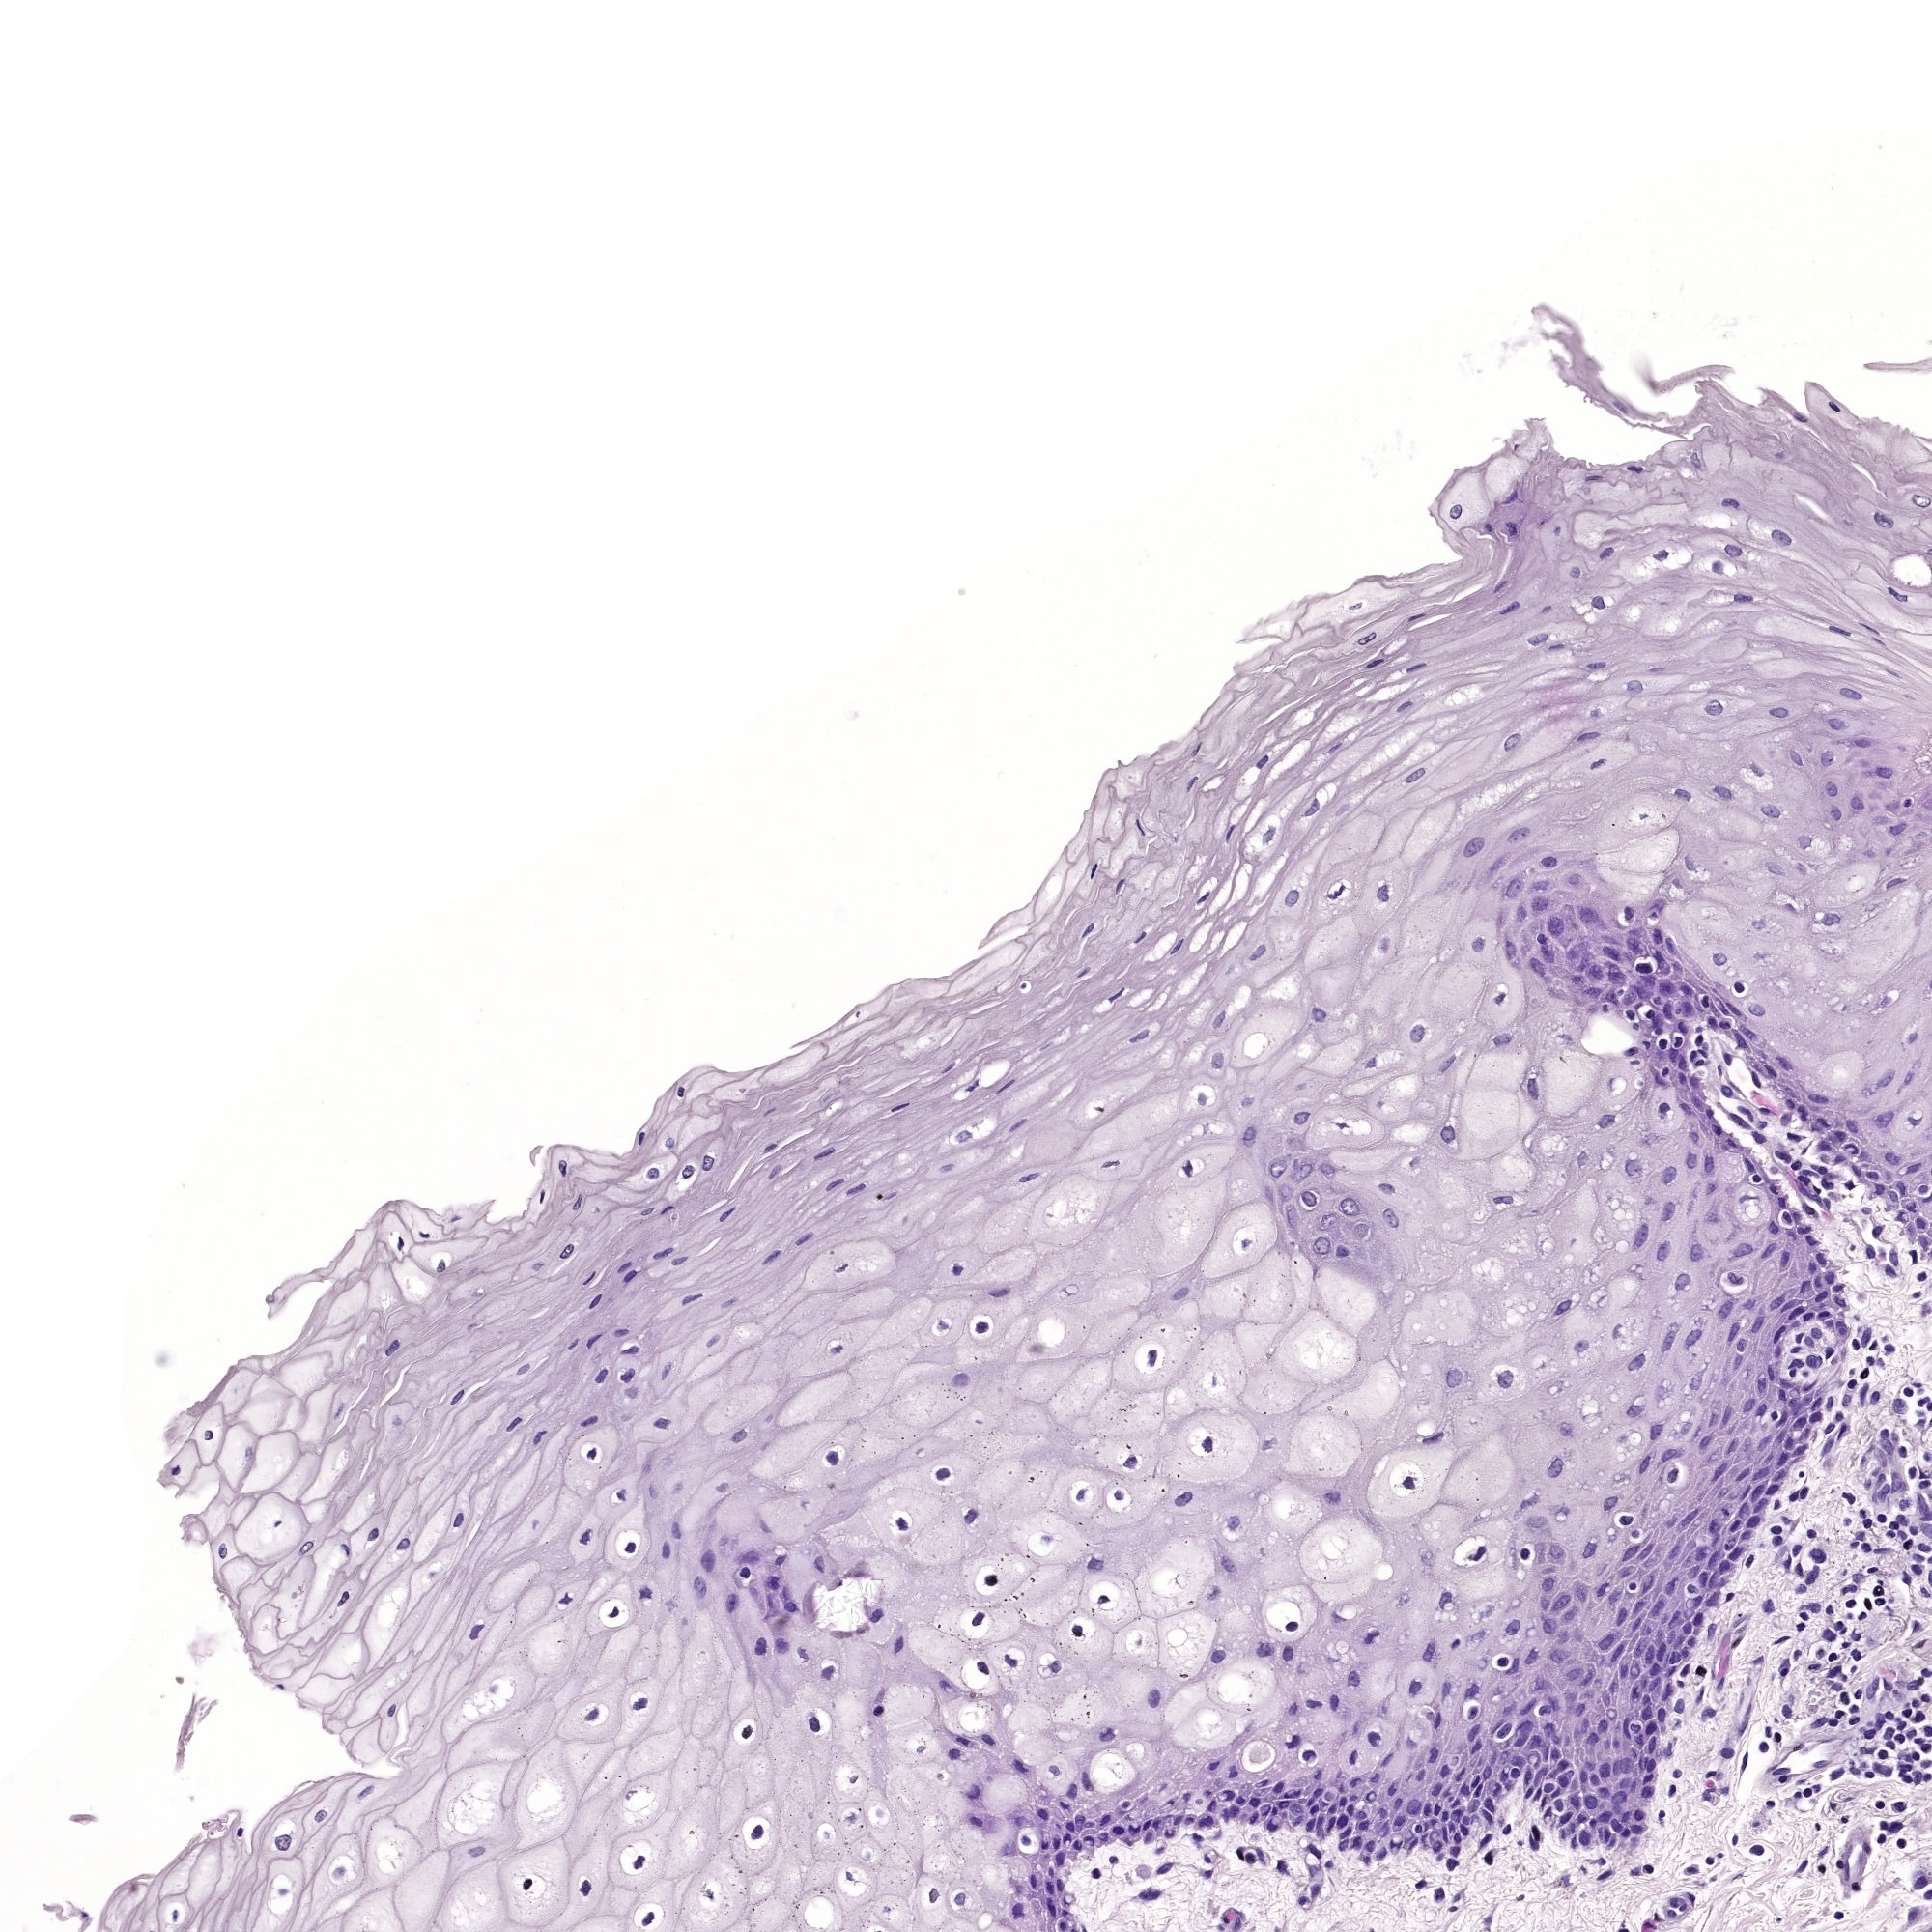epithelial: (1180, 1495, 1191, 1504), (1633, 681, 1640, 690), (1534, 635, 1541, 642), (1645, 1709, 1652, 1716), (1796, 416, 1805, 421), (1332, 743, 1338, 750), (1525, 1727, 1529, 1737), (1527, 1706, 1534, 1711), (699, 1583, 702, 1594), (478, 1845, 483, 1852), (1514, 833, 1523, 837), (955, 1380, 964, 1384), (1511, 529, 1516, 534), (1897, 594, 1902, 600), (1614, 1592, 1619, 1598), (1537, 885, 1545, 888), (1325, 1219, 1332, 1223), (1134, 1035, 1141, 1039), (1548, 1580, 1552, 1587), (828, 1670, 832, 1677), (1311, 805, 1315, 810), (1474, 846, 1479, 849), (1888, 1076, 1891, 1081), (1507, 952, 1511, 957), (1548, 952, 1552, 957), (1633, 943, 1637, 948), (1594, 973, 1598, 978), (1753, 1007, 1757, 1012), (1739, 1247, 1744, 1251), (1316, 1244, 1322, 1247), (947, 1067, 952, 1070), (458, 1516, 462, 1522), (676, 1488, 679, 1493), (1175, 1293, 1180, 1297), (1753, 1520, 1757, 1525), (1760, 1442, 1766, 1445), (1794, 1311, 1799, 1315), (1605, 1697, 1608, 1702), (1548, 1730, 1552, 1736), (1368, 1635, 1371, 1640), (1019, 1766, 1023, 1771), (1226, 1562, 1231, 1566), (472, 1628, 476, 1633), (639, 1702, 644, 1706), (1318, 1821, 1320, 1829), (1454, 510, 1458, 513), (1882, 518, 1886, 522), (1847, 692, 1851, 695), (1893, 879, 1897, 883), (1497, 1039, 1504, 1040), (1536, 964, 1539, 968), (1587, 916, 1591, 920), (1615, 977, 1619, 980), (1679, 1076, 1683, 1079), (1856, 1169, 1859, 1173), (1920, 1221, 1923, 1224), (1771, 1189, 1775, 1192), (1698, 1100, 1702, 1104), (1445, 1132, 1447, 1139), (1384, 1185, 1387, 1189), (1297, 1116, 1304, 1118), (1026, 1177, 1033, 1178), (768, 1146, 771, 1150), (663, 1208, 667, 1212), (626, 1373, 630, 1376), (632, 1391, 635, 1394), (1562, 1426, 1566, 1430), (1633, 1408, 1637, 1412), (1610, 1500, 1614, 1504), (1746, 1405, 1750, 1408), (1718, 1468, 1721, 1472), (1798, 1422, 1801, 1426), (1815, 1415, 1819, 1419), (1789, 1304, 1792, 1307), (1840, 1329, 1844, 1332), (1599, 1587, 1603, 1591), (1647, 1629, 1651, 1633), (1651, 1683, 1654, 1686), (1573, 1674, 1576, 1677), (1527, 1499, 1530, 1502), (1536, 1741, 1539, 1744), (1458, 1773, 1461, 1776), (961, 1739, 964, 1743), (589, 1711, 591, 1718), (361, 1790, 364, 1794), (961, 1895, 964, 1898), (1116, 1829, 1120, 1833), (1132, 1829, 1136, 1833), (1145, 1822, 1148, 1826), (1631, 467, 1637, 469), (1730, 501, 1732, 506), (1594, 665, 1599, 667), (1813, 1099, 1819, 1100), (1697, 1249, 1698, 1254), (1605, 1120, 1606, 1125), (1500, 1200, 1506, 1201), (1361, 1228, 1362, 1233), (1290, 1214, 1292, 1219), (1327, 1164, 1329, 1169), (1215, 1058, 1217, 1063), (855, 1189, 860, 1191), (403, 1539, 405, 1545), (1711, 1522, 1713, 1527), (1723, 1562, 1725, 1568), (1583, 1677, 1589, 1679), (1557, 1546, 1559, 1552), (1288, 1649, 1290, 1654), (748, 1555, 754, 1557), (708, 1557, 709, 1562), (345, 1548, 350, 1550), (320, 1815, 322, 1821), (1253, 1817, 1254, 1822), (1343, 1819, 1345, 1824), (1573, 570, 1576, 571), (1500, 584, 1504, 586), (1606, 552, 1610, 554), (1732, 550, 1736, 552), (1693, 456, 1695, 460), (1619, 405, 1621, 409), (1833, 407, 1836, 409), (1838, 630, 1842, 632), (1545, 607, 1546, 610), (1507, 607, 1511, 609), (1778, 711, 1780, 715), (1836, 722, 1838, 725), (1863, 743, 1865, 747), (1509, 741, 1511, 745), (1415, 616, 1419, 617), (1270, 832, 1272, 835), (1681, 791, 1684, 793), (1893, 807, 1895, 810), (1688, 863, 1691, 865), (1447, 1062, 1449, 1065), (1534, 1085, 1536, 1088), (1537, 901, 1539, 904), (1631, 996, 1633, 1000), (1642, 991, 1644, 994), (1651, 978, 1652, 982), (1667, 985, 1668, 989), (1684, 989, 1688, 991), (1741, 1042, 1744, 1044), (1750, 1033, 1752, 1037), (1695, 1079, 1697, 1083), (1822, 1122, 1826, 1123), (1879, 1187, 1881, 1191), (1821, 1258, 1822, 1261), (1693, 1134, 1695, 1138), (1707, 1164, 1709, 1168), (1767, 1253, 1769, 1256), (1663, 1251, 1665, 1254), (1668, 1171, 1670, 1175), (1389, 1215, 1391, 1219), (1300, 1171, 1304, 1173), (1284, 1191, 1286, 1194), (1318, 1012, 1320, 1016), (1249, 1132, 1251, 1136), (1116, 994, 1120, 996), (1109, 1162, 1111, 1166), (901, 1106, 904, 1108), (727, 1212, 731, 1214), (771, 1256, 775, 1258), (805, 1237, 807, 1240), (570, 1251, 571, 1254), (400, 1242, 402, 1246), (690, 1299, 694, 1300), (632, 1348, 633, 1352), (456, 1394, 458, 1398), (513, 1422, 517, 1424), (373, 1534, 375, 1537), (1453, 1373, 1454, 1376), (1507, 1375, 1509, 1378), (1560, 1306, 1562, 1309), (1580, 1346, 1583, 1348), (1635, 1359, 1637, 1362), (1683, 1281, 1684, 1284), (1737, 1359, 1739, 1362), (1697, 1378, 1698, 1382), (1727, 1415, 1729, 1419), (1760, 1384, 1762, 1387), (1686, 1518, 1690, 1520), (1782, 1458, 1783, 1461), (1822, 1315, 1826, 1316), (1840, 1322, 1842, 1325), (1711, 1557, 1714, 1559), (1700, 1550, 1702, 1553), (1674, 1552, 1675, 1555), (1644, 1550, 1645, 1553), (1635, 1622, 1637, 1626), (1700, 1576, 1702, 1580), (1672, 1583, 1674, 1587), (1674, 1656, 1675, 1660), (1647, 1652, 1649, 1656), (1649, 1762, 1651, 1766), (1557, 1601, 1560, 1603), (1514, 1622, 1516, 1626), (1555, 1752, 1557, 1755), (1516, 1760, 1520, 1762), (1313, 1702, 1315, 1706), (1212, 1764, 1214, 1767), (1104, 1734, 1106, 1737), (985, 1737, 989, 1739), (899, 1644, 901, 1647), (789, 1605, 793, 1606), (667, 1552, 669, 1555), (278, 1523, 280, 1527), (285, 1840, 287, 1844), (175, 1913, 177, 1916), (1054, 1767, 1056, 1771), (1072, 1790, 1074, 1794), (975, 1819, 978, 1821), (1056, 1842, 1058, 1845), (1069, 1824, 1072, 1826), (1178, 1815, 1180, 1819), (1231, 1771, 1233, 1775), (1274, 1810, 1276, 1813), (1309, 1799, 1311, 1803), (1309, 1822, 1311, 1826), (1341, 1799, 1343, 1803), (1350, 1808, 1352, 1812), (1348, 1831, 1350, 1835), (1345, 1844, 1346, 1847), (1509, 497, 1511, 499), (1486, 525, 1488, 527), (1778, 538, 1780, 540), (1557, 646, 1559, 648), (1589, 734, 1591, 736), (1368, 637, 1369, 639), (1375, 662, 1376, 663), (1415, 667, 1417, 669), (1230, 832, 1231, 833), (1713, 706, 1714, 708), (1723, 793, 1725, 794), (1824, 757, 1826, 759), (1829, 918, 1831, 920), (1720, 959, 1721, 961), (1612, 954, 1614, 955), (1681, 1028, 1683, 1030), (1713, 1023, 1714, 1024), (1723, 1026, 1725, 1028), (1782, 1060, 1783, 1062), (1674, 1054, 1675, 1056), (1801, 1109, 1803, 1111), (1840, 1138, 1842, 1139), (1822, 1148, 1824, 1150), (1891, 1196, 1893, 1198), (1729, 1141, 1730, 1143), (1716, 1131, 1718, 1132), (1686, 1109, 1688, 1111), (1690, 1159, 1691, 1161), (1709, 1187, 1711, 1189), (1713, 1215, 1714, 1217), (1582, 1157, 1583, 1159), (1246, 1100, 1247, 1102), (1003, 1086, 1005, 1088), (833, 1182, 835, 1184), (773, 1171, 775, 1173), (663, 1254, 665, 1256), (690, 1169, 692, 1171), (959, 1267, 961, 1269), (395, 1346, 396, 1348), (623, 1332, 625, 1334), (573, 1341, 575, 1343), (522, 1368, 524, 1369), (602, 1375, 603, 1376), (665, 1369, 667, 1371), (711, 1339, 713, 1341), (741, 1437, 743, 1438), (1233, 1520, 1235, 1522), (1433, 1438, 1435, 1440), (1656, 1428, 1658, 1430), (1534, 1518, 1536, 1520), (1667, 1339, 1668, 1341), (1725, 1307, 1727, 1309), (1667, 1453, 1668, 1454), (1769, 1371, 1771, 1373), (1736, 1525, 1737, 1527), (1778, 1476, 1780, 1477), (1813, 1403, 1815, 1405), (1782, 1419, 1783, 1421), (1808, 1315, 1810, 1316), (1828, 1322, 1829, 1323), (1778, 1352, 1780, 1353), (1727, 1545, 1729, 1546), (1580, 1598, 1582, 1599), (1697, 1619, 1698, 1621), (1686, 1628, 1688, 1629), (1619, 1651, 1621, 1652), (1668, 1670, 1670, 1672), (1649, 1725, 1651, 1727), (1615, 1766, 1617, 1767), (1589, 1766, 1591, 1767), (1601, 1725, 1603, 1727), (1557, 1654, 1559, 1656), (1548, 1624, 1550, 1626), (1568, 1612, 1569, 1614), (1545, 1603, 1546, 1605), (1444, 1598, 1445, 1599), (1470, 1693, 1472, 1695), (1415, 1684, 1417, 1686), (1433, 1755, 1435, 1757), (1474, 1732, 1476, 1734), (1444, 1771, 1445, 1773), (1332, 1702, 1334, 1704), (1263, 1647, 1265, 1649), (1212, 1654, 1214, 1656), (876, 1614, 878, 1615), (778, 1559, 780, 1560), (586, 1537, 587, 1539), (310, 1546, 311, 1548), (239, 1833, 241, 1835), (340, 1872, 341, 1874), (1085, 1780, 1086, 1782), (973, 1790, 975, 1792), (1044, 1845, 1046, 1847), (1102, 1819, 1104, 1821), (1169, 1833, 1171, 1835), (1189, 1821, 1191, 1822), (1263, 1810, 1265, 1812), (1316, 1792, 1318, 1794), (1329, 1794, 1330, 1796), (1364, 1824, 1366, 1826)
fibroblast and endothelial: (1920, 1504, 1927, 1509), (1882, 1490, 1888, 1495), (1879, 1718, 1882, 1725), (1683, 1668, 1686, 1674), (1884, 1684, 1890, 1688), (1881, 1767, 1886, 1771), (1785, 1709, 1790, 1713), (1313, 1845, 1316, 1851), (1437, 1844, 1440, 1849), (1847, 1720, 1856, 1721), (1601, 1874, 1610, 1875), (1725, 1088, 1729, 1092), (1847, 1184, 1851, 1187), (1895, 1254, 1897, 1261), (1879, 1454, 1882, 1458), (1920, 1401, 1923, 1405), (1484, 1815, 1488, 1819), (1893, 1826, 1897, 1829), (1783, 1118, 1789, 1120), (1783, 1382, 1785, 1387), (1767, 1605, 1769, 1610), (1707, 1713, 1713, 1714), (1813, 1665, 1815, 1670), (1867, 1775, 1872, 1776), (1150, 1891, 1152, 1897), (1445, 1790, 1451, 1792), (1757, 1076, 1759, 1079), (1720, 1069, 1721, 1072), (1803, 1178, 1806, 1180), (1815, 1332, 1819, 1334), (1854, 1341, 1856, 1345), (1875, 1394, 1877, 1398), (1805, 1387, 1808, 1389), (1840, 1414, 1842, 1417), (1829, 1426, 1831, 1430), (1828, 1440, 1831, 1442), (1890, 1534, 1893, 1536), (1900, 1518, 1902, 1522), (1882, 1431, 1886, 1433), (1914, 1384, 1918, 1385), (1921, 1474, 1923, 1477), (1921, 1484, 1925, 1486), (1913, 1530, 1914, 1534), (1813, 1573, 1815, 1576), (1698, 1697, 1700, 1700), (1737, 1642, 1741, 1644), (1739, 1629, 1743, 1631), (1720, 1684, 1723, 1686), (1815, 1605, 1817, 1608), (1831, 1668, 1833, 1672), (1836, 1688, 1840, 1690), (1920, 1679, 1923, 1681), (1923, 1697, 1925, 1700), (1909, 1736, 1913, 1737), (1821, 1762, 1822, 1766), (1780, 1769, 1783, 1771), (1819, 1723, 1822, 1725), (1196, 1836, 1200, 1838), (1208, 1872, 1212, 1874), (1507, 1828, 1509, 1831), (1426, 1808, 1428, 1812), (1488, 1805, 1490, 1808), (1819, 1870, 1822, 1872), (1534, 1844, 1536, 1847), (1913, 1913, 1914, 1916), (1799, 1865, 1803, 1867), (1691, 1898, 1693, 1902), (1631, 1051, 1633, 1053), (1737, 1116, 1739, 1118), (1782, 1157, 1783, 1159), (1803, 1192, 1805, 1194), (1828, 1201, 1829, 1203), (1891, 1274, 1893, 1276), (1799, 1338, 1801, 1339), (1796, 1348, 1798, 1350), (1810, 1357, 1812, 1359), (1796, 1362, 1798, 1364), (1874, 1345, 1875, 1346), (1863, 1389, 1865, 1391), (1829, 1401, 1831, 1403), (1785, 1518, 1787, 1520), (1865, 1546, 1867, 1548), (1874, 1495, 1875, 1497), (1897, 1477, 1898, 1479), (1904, 1502, 1905, 1504), (1863, 1513, 1865, 1514), (1886, 1444, 1888, 1445), (1736, 1621, 1737, 1622), (1759, 1660, 1760, 1661), (1829, 1608, 1831, 1610), (1828, 1633, 1829, 1635), (1851, 1589, 1852, 1591), (1872, 1569, 1874, 1571), (1881, 1550, 1882, 1552), (1854, 1652, 1856, 1654), (1844, 1695, 1845, 1697), (1852, 1706, 1854, 1707), (1870, 1686, 1872, 1688), (1900, 1727, 1902, 1729), (1888, 1716, 1890, 1718), (1867, 1748, 1868, 1750), (1872, 1732, 1874, 1734), (1675, 1773, 1677, 1775), (1744, 1725, 1746, 1727), (1162, 1870, 1164, 1872), (1159, 1849, 1161, 1851), (1207, 1859, 1208, 1861), (1260, 1852, 1261, 1854), (1235, 1923, 1237, 1925), (1421, 1882, 1422, 1884), (1445, 1813, 1447, 1815), (1449, 1799, 1451, 1801), (1456, 1801, 1458, 1803), (1463, 1790, 1465, 1792), (1479, 1790, 1481, 1792), (1465, 1829, 1467, 1831), (1460, 1835, 1461, 1836), (1601, 1861, 1603, 1863), (1882, 1822, 1884, 1824), (1865, 1844, 1867, 1845)
inflammatory: (1642, 964, 1647, 971), (1732, 1279, 1737, 1283), (1815, 1552, 1819, 1555), (1691, 1868, 1695, 1872), (1898, 1806, 1902, 1810), (1902, 1405, 1904, 1408), (1054, 1665, 1058, 1667), (1759, 1847, 1760, 1851), (1670, 1914, 1674, 1916), (1905, 1545, 1907, 1546), (1707, 1859, 1709, 1861), (1658, 1918, 1660, 1920)
lymphocyte: (1504, 1729, 1509, 1736), (1023, 1838, 1028, 1844), (1307, 1196, 1311, 1201), (941, 1472, 947, 1476), (1306, 1755, 1311, 1759), (646, 1918, 649, 1923), (1539, 938, 1543, 941), (970, 1516, 973, 1520), (1405, 1481, 1408, 1484), (1867, 1601, 1870, 1605), (1472, 1711, 1476, 1714), (1290, 1624, 1293, 1628), (524, 1882, 527, 1886), (1594, 602, 1599, 603), (1152, 1353, 1154, 1359), (1545, 1707, 1546, 1713), (635, 1858, 637, 1863), (584, 1886, 586, 1891), (1628, 911, 1629, 915), (1697, 1039, 1698, 1042), (1677, 1042, 1679, 1046), (1663, 1042, 1665, 1046), (591, 1453, 593, 1456), (621, 1493, 623, 1497), (833, 1456, 835, 1460), (1867, 1522, 1868, 1525), (1805, 1615, 1806, 1619), (1840, 1622, 1842, 1626), (1477, 1553, 1479, 1557), (1104, 1598, 1106, 1601), (982, 1663, 984, 1667), (1095, 1874, 1097, 1877), (1546, 1787, 1550, 1789), (1881, 1838, 1882, 1842), (1661, 556, 1663, 557), (1649, 1012, 1651, 1014), (1631, 1012, 1633, 1014), (1737, 985, 1739, 987), (1796, 1168, 1798, 1169), (1923, 1276, 1925, 1277), (982, 1327, 984, 1329), (1120, 1493, 1122, 1495), (1624, 1518, 1626, 1520), (1851, 1384, 1852, 1385), (1909, 1391, 1911, 1392), (1879, 1601, 1881, 1603), (1831, 1656, 1833, 1658), (1833, 1723, 1835, 1725), (1766, 1746, 1767, 1748), (1907, 1713, 1909, 1714), (1633, 1727, 1635, 1729), (1688, 1587, 1690, 1589), (1631, 1585, 1633, 1587), (989, 1578, 991, 1580), (978, 1615, 980, 1617), (612, 1612, 614, 1614), (1249, 1858, 1251, 1859), (1769, 1803, 1771, 1805), (1838, 1863, 1840, 1865)
